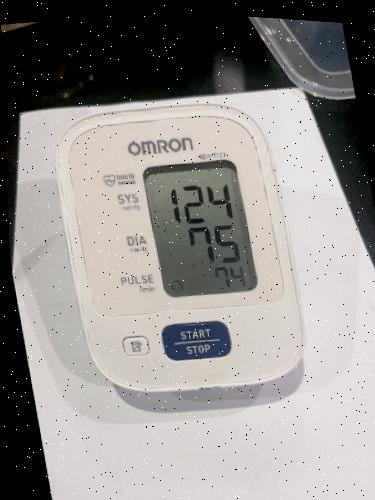bpm: (138, 149, 260, 309)
